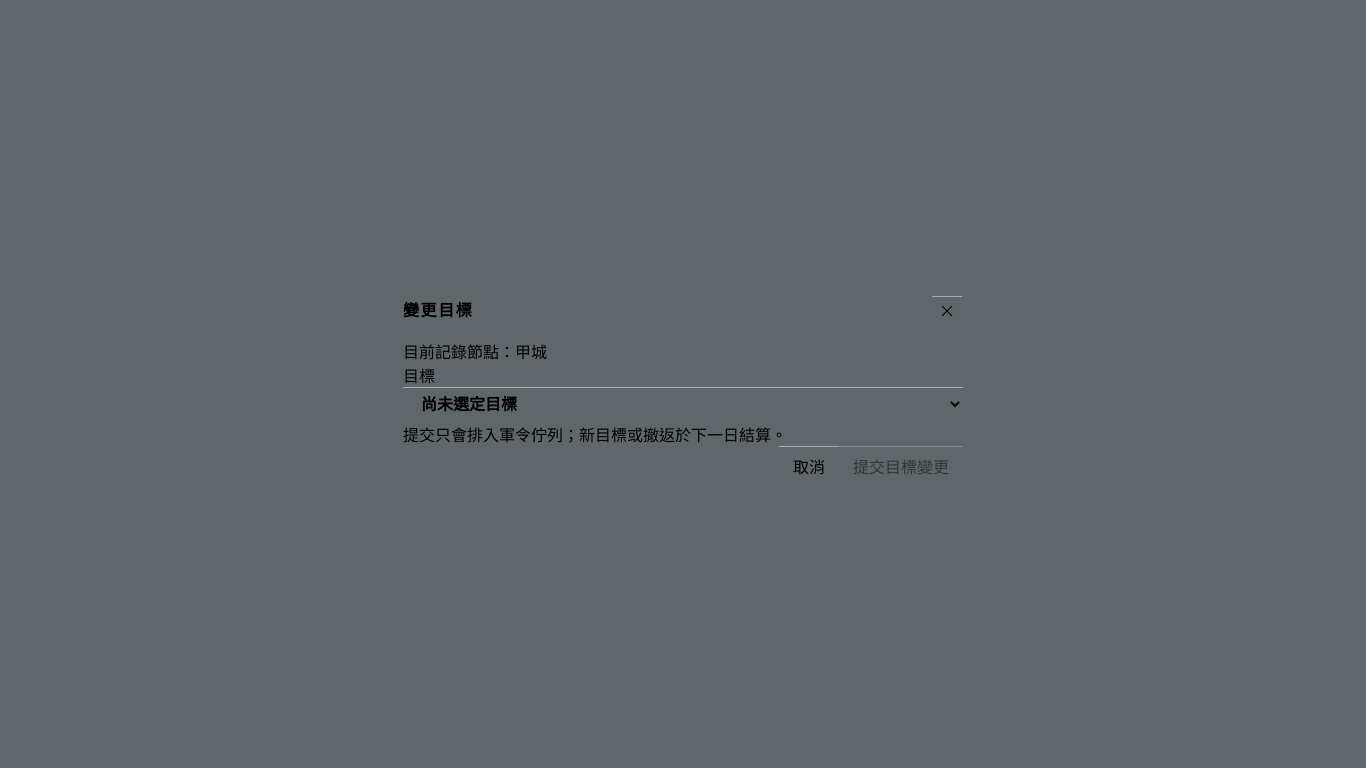
Test: ArmyTargetModal › truthfully labels an entered physical leg (reversing=true)
This screenshot has width=1366, height=768.
Select "乙城" in the dropdown with test id "army-target-select" at (683, 404), box [403,386,963,422]
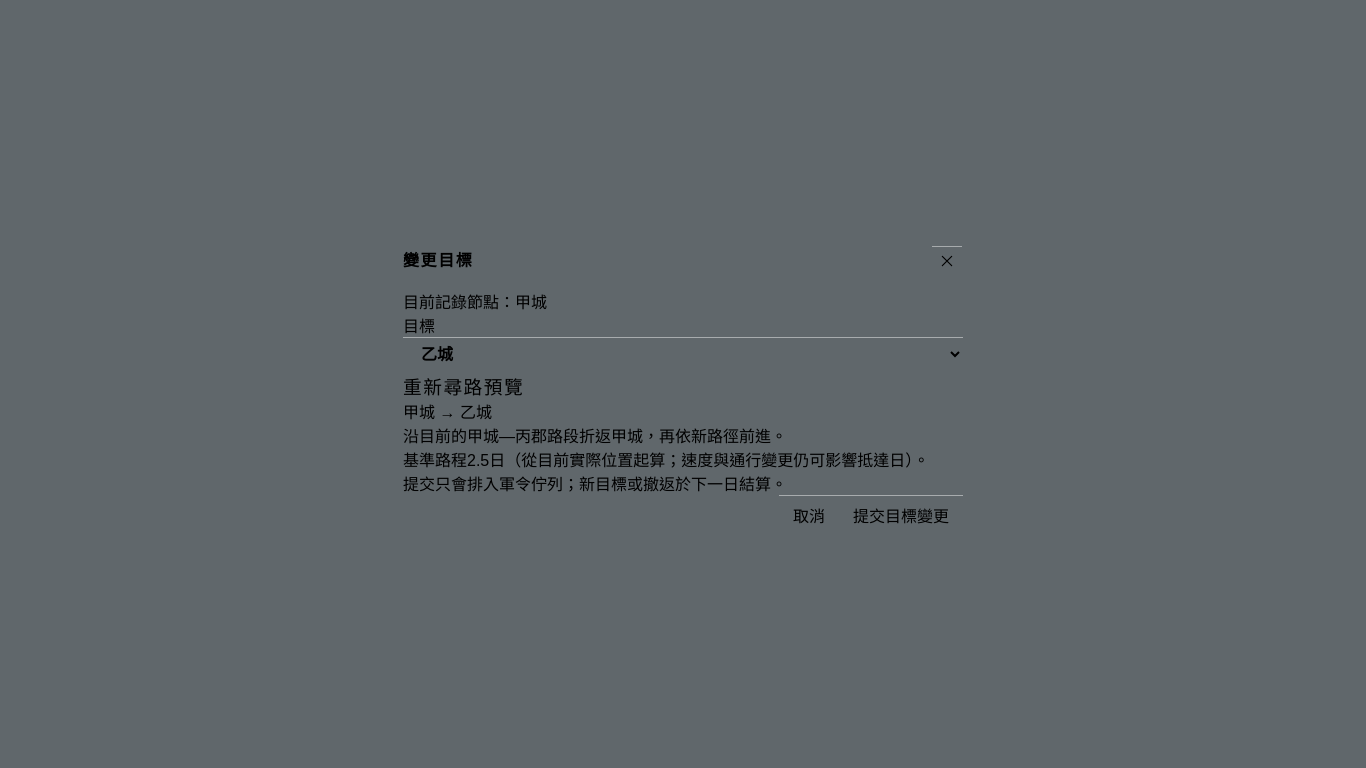
Check: the element with test id "army-target-preview" shows "沿目前的甲城—丙郡路段折返甲城，再依新路徑前進。", box [403,428,787,445]
Check: the element with test id "army-target-preview" shows "速度與通行變更仍可影響抵達日", box [403,452,929,469]
